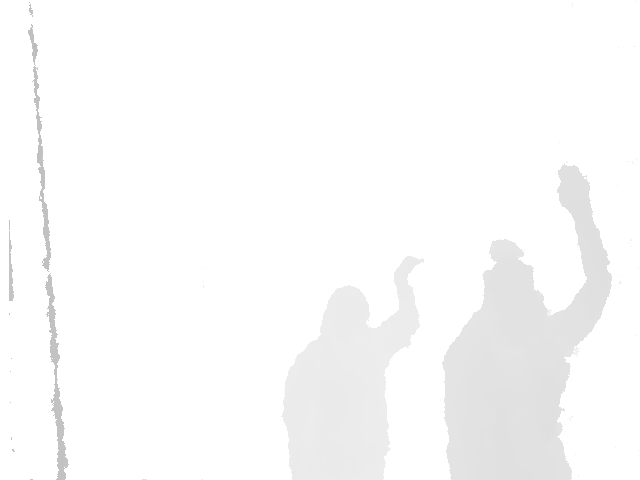hand: (557, 166, 593, 213), (393, 255, 427, 282)
head: (482, 239, 536, 316), (319, 285, 371, 340)
person: (439, 166, 612, 480), (280, 255, 427, 480)
